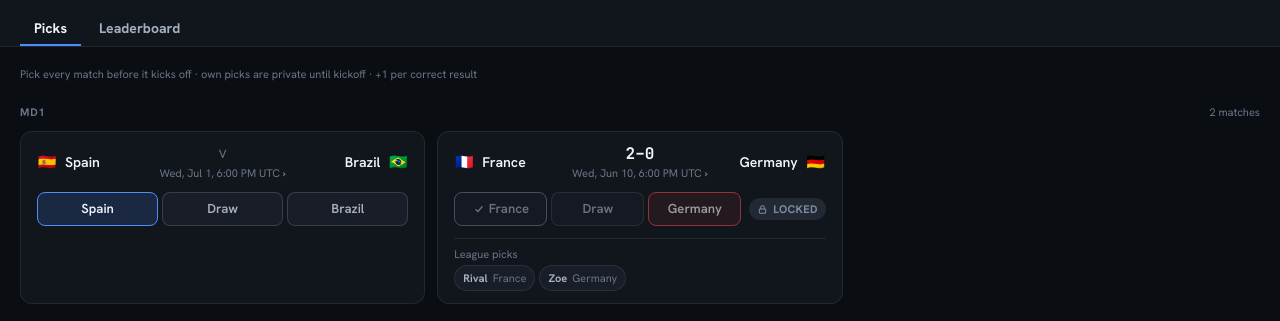
Test case: leaderboard → manager picks drill-in (T4) › on the leaderboard tab, no team/pick text is in the DOM until a manager is opened
Click the tab "Leaderboard": (140, 29) x1=85 y1=12 x2=194 y2=46
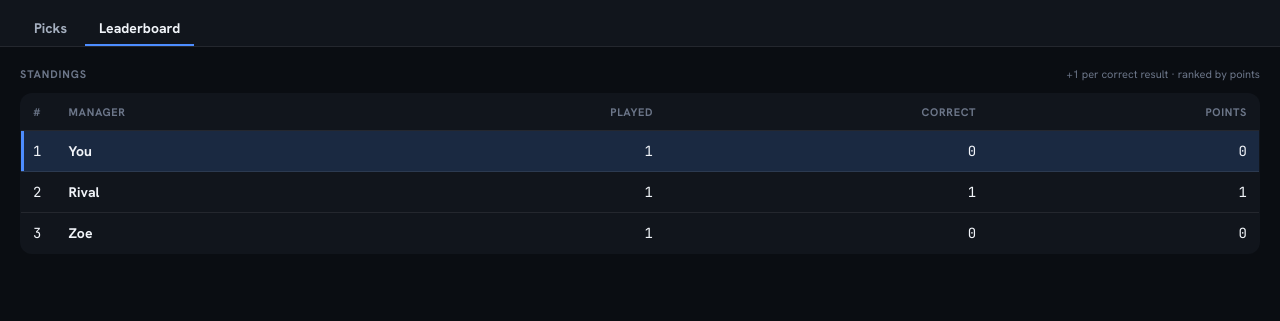
Result: the text "Spain" is not shown
